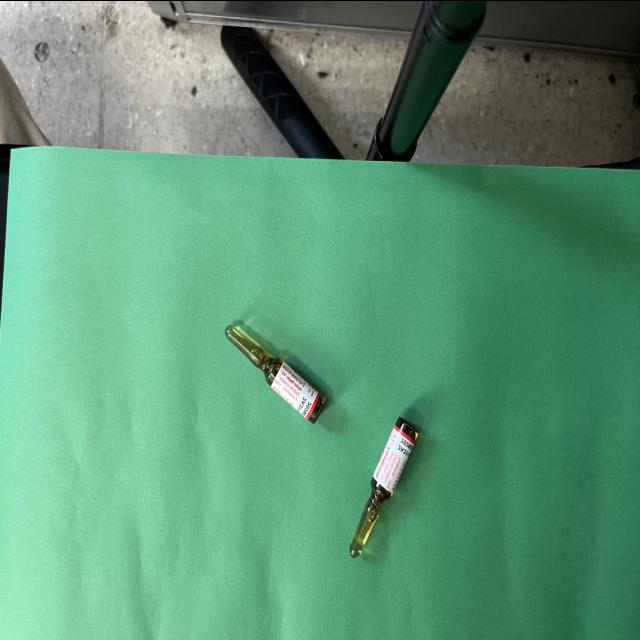Ampoules: (225, 325, 326, 424), (350, 417, 419, 559)
